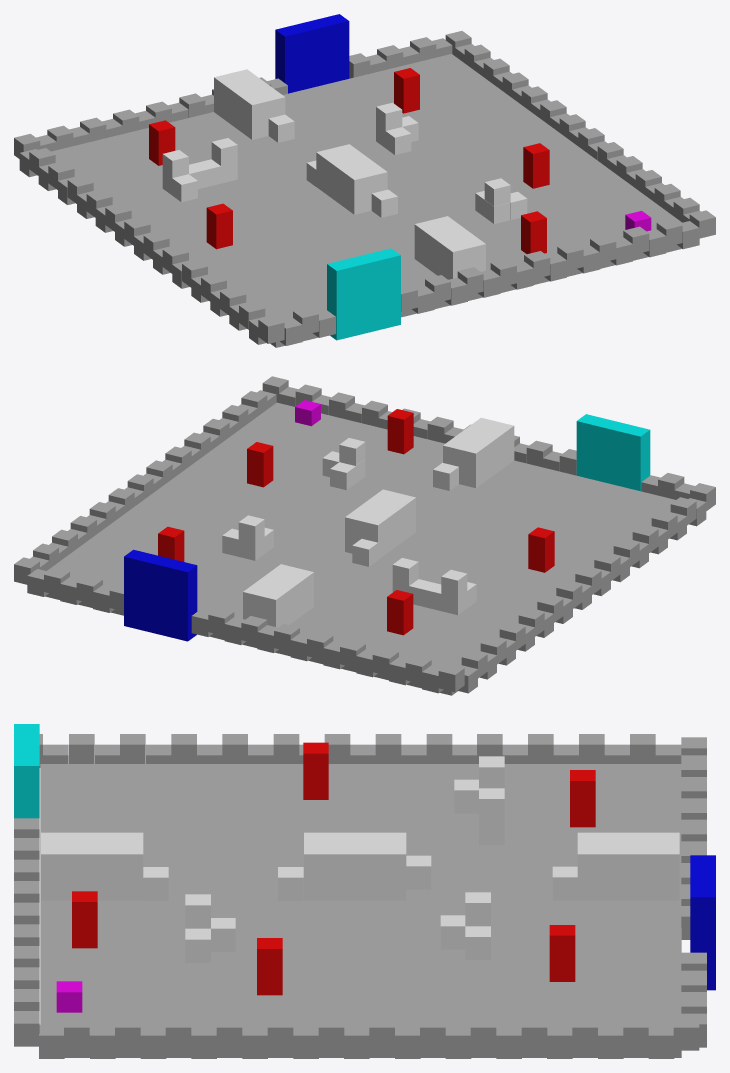
The model's file is level1_b5_25.fbx.
3 renders of one model, top to bottom at view 1: azimuth 30°, elevation 25°; view 2: azimuth 150°, elevation 25°; view 3: azimuth 270°, elevation 25°, orthographic. The views are drawn at different scales.
Visible parts, largest first — view 1: pCube1, pCube148, pCube149, pCube127, pCube124, pCube125, pCube126, pCube128, pCube123, pCube151, pCube152, pCube153 (+19 smaller); view 2: pCube1, pCube149, pCube148, pCube126, pCube123, pCube128, pCube125, pCube127, pCube124, pCube152, pCube150, pCube151 (+20 smaller); view 3: pCube1, pCube128, pCube123, pCube124, pCube127, pCube126, pCube125, pCube149, pCube148, pCube153, pCube150, pCube151 (+57 smaller).
Part boxes in pixels (x1=…): pCube1: x1=51, y1=54, x2=681, y2=347; pCube148: x1=327, y1=248, x2=400, y2=340; pCube149: x1=275, y1=14, x2=349, y2=93; pCube127: x1=335, y1=158, x2=387, y2=214; pCube124: x1=233, y1=83, x2=285, y2=139; pCube125: x1=433, y1=230, x2=485, y2=279; pCube126: x1=414, y1=216, x2=466, y2=272; pCube128: x1=316, y1=144, x2=368, y2=200; pCube123: x1=214, y1=69, x2=265, y2=125; pCube151: x1=206, y1=203, x2=232, y2=249; pCube152: x1=523, y1=143, x2=549, y2=188; pCube153: x1=394, y1=68, x2=419, y2=113; pCube1: x1=45, y1=402, x2=675, y2=695; pCube149: x1=124, y1=549, x2=197, y2=641; pCube148: x1=576, y1=414, x2=650, y2=491; pCube126: x1=443, y1=431, x2=495, y2=487; pCube123: x1=243, y1=578, x2=295, y2=627; pCube128: x1=345, y1=503, x2=396, y2=559; pCube125: x1=462, y1=417, x2=514, y2=473; pCube127: x1=364, y1=489, x2=415, y2=545; pCube124: x1=262, y1=564, x2=313, y2=620; pCube152: x1=247, y1=442, x2=273, y2=487; pCube150: x1=387, y1=590, x2=413, y2=635; pCube151: x1=528, y1=527, x2=554, y2=572; pCube1: x1=40, y1=764, x2=681, y2=1057; pCube128: x1=355, y1=832, x2=406, y2=900; pCube123: x1=628, y1=832, x2=679, y2=900; pCube124: x1=577, y1=832, x2=628, y2=900; pCube127: x1=304, y1=832, x2=355, y2=900; pCube126: x1=92, y1=832, x2=143, y2=900; pCube125: x1=41, y1=832, x2=92, y2=900; pCube149: x1=690, y1=855, x2=715, y2=990; pCube148: x1=14, y1=724, x2=39, y2=818; pCube153: x1=549, y1=925, x2=575, y2=981; pCube150: x1=570, y1=770, x2=595, y2=827; pCube151: x1=303, y1=742, x2=328, y2=799.
Size of the model in its own units: 27.05 by 4.14 by 27.38.
